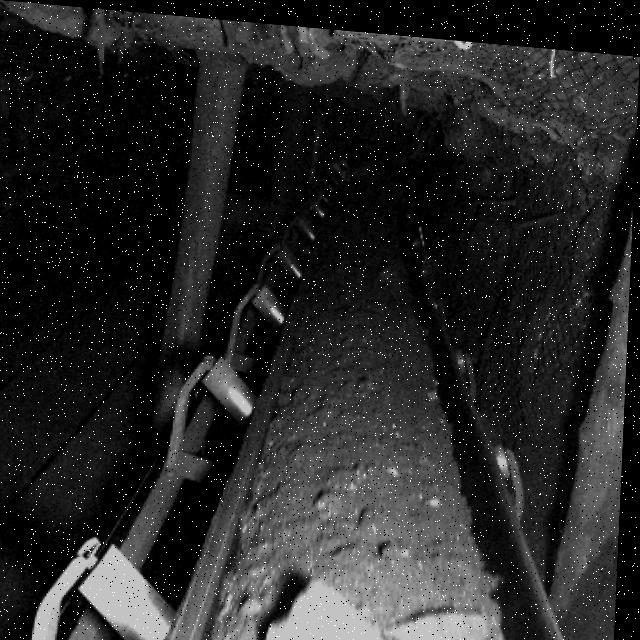large_sized_coal: (266, 573, 403, 640), (394, 590, 495, 640)
